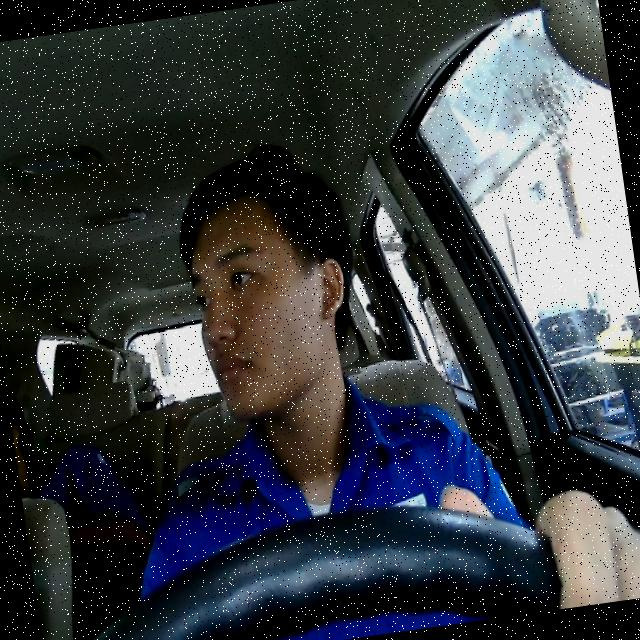seeing_left: (177, 173, 365, 427)
